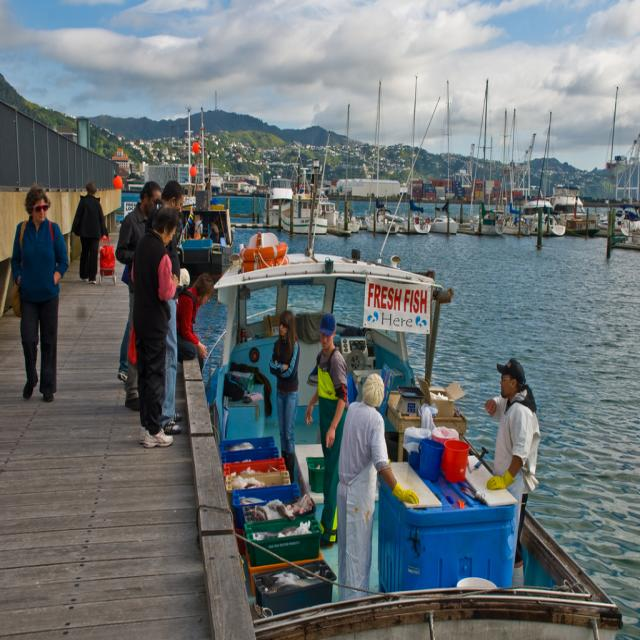Boat: (202, 142, 602, 640), (175, 117, 238, 285), (464, 70, 505, 234), (366, 75, 403, 242), (396, 68, 429, 236), (526, 106, 566, 237), (428, 80, 458, 236), (279, 150, 329, 243), (327, 95, 357, 239), (497, 106, 528, 239), (549, 178, 600, 242), (266, 172, 298, 231), (606, 201, 640, 238), (521, 178, 551, 217)
